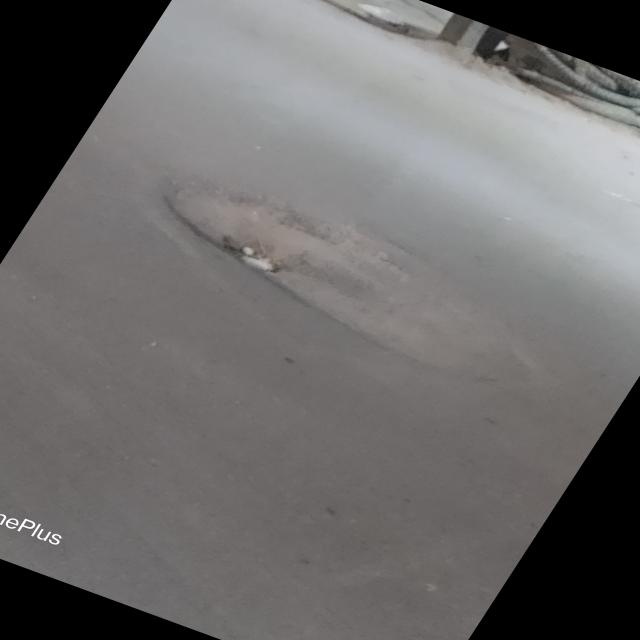potholes: (140, 151, 563, 406)
